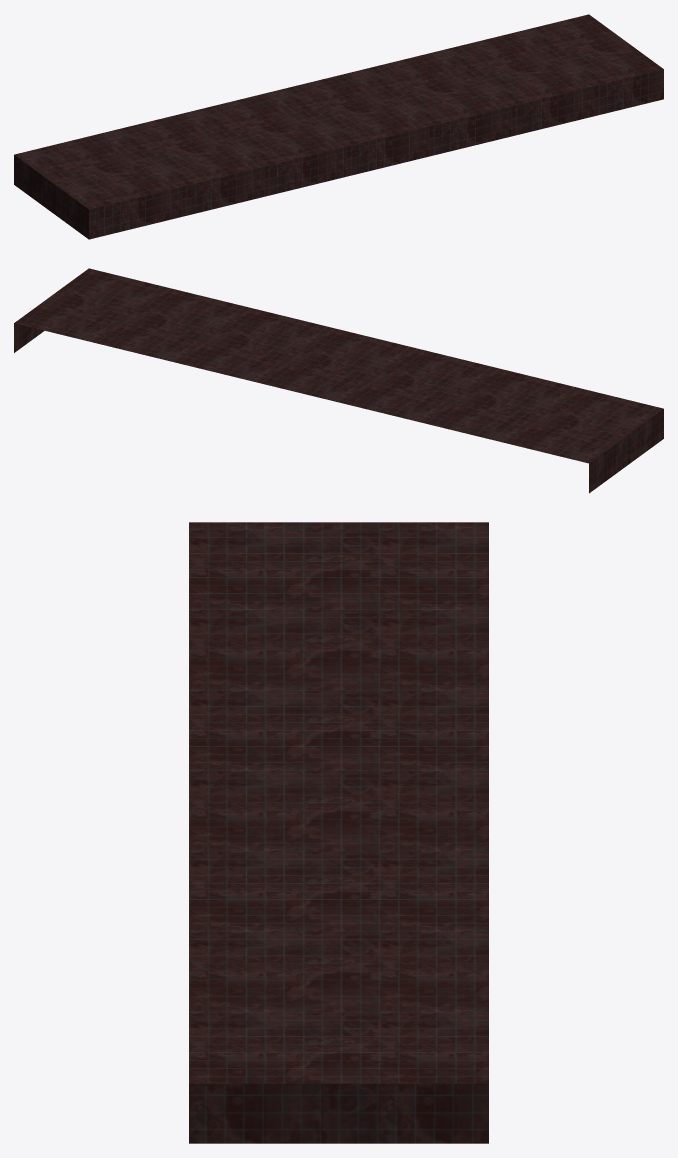
The model's file is walkway.fbx.
3 renders of one model, top to bottom at view 1: azimuth 30°, elevation 25°; view 2: azimuth 150°, elevation 25°; view 3: azimuth 270°, elevation 25°, orthographic. The views are drawn at different scales.
Parts seen in each view (by area): view 1: apartment_walkway; view 2: apartment_walkway; view 3: apartment_walkway.
Part boxes in pixels (x1=…): apartment_walkway: x1=14, y1=14, x2=663, y2=239; apartment_walkway: x1=14, y1=268, x2=663, y2=493; apartment_walkway: x1=189, y1=522, x2=488, y2=1143.
Bounding box in the file's own units: 1797 × 89.84 × 406.
1 material, 1 textured.
